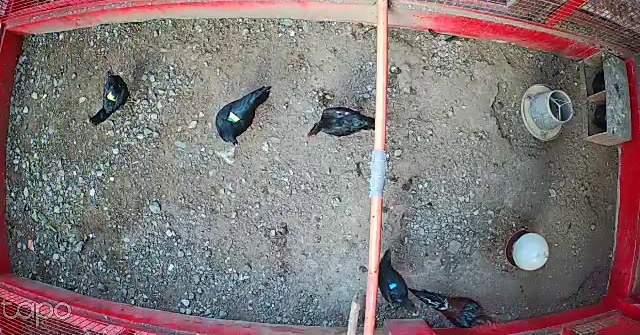Chicken: (214, 82, 277, 146), (375, 250, 418, 314), (87, 71, 137, 126), (303, 108, 379, 140)
Rooster: (402, 282, 501, 333)
Saddle_Color_Blue: (387, 282, 397, 290)
Saddle_Color_Yellow: (106, 89, 121, 104)
Saddle_Color_YellowGreen: (226, 113, 242, 124)
